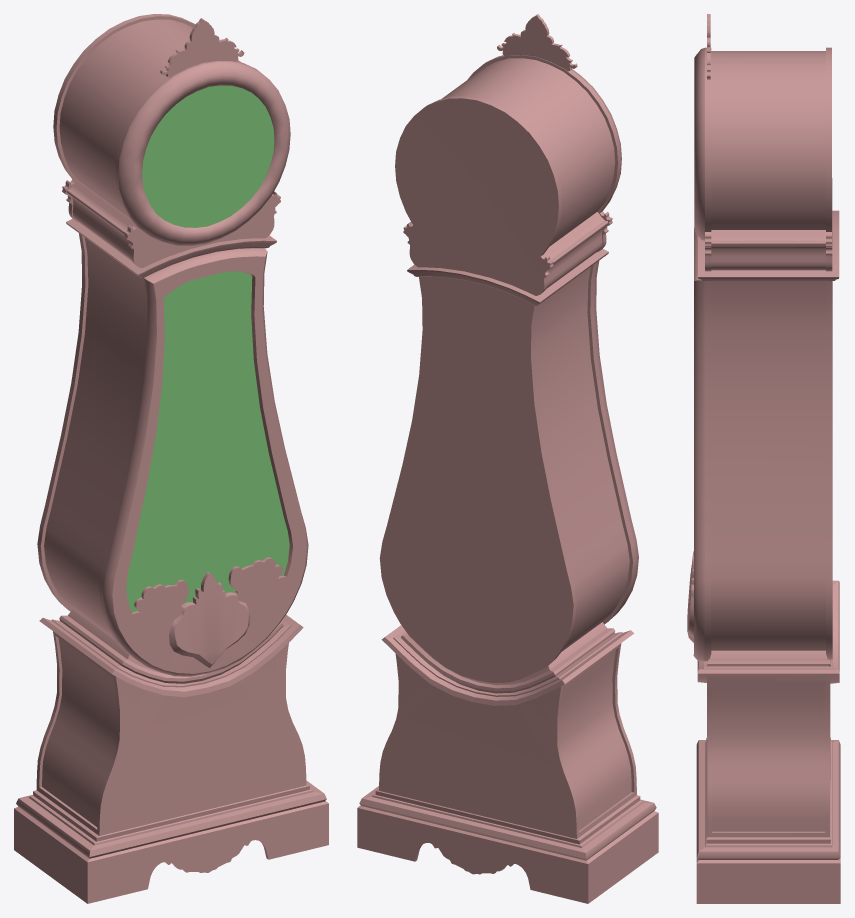
Rendered from SM_GFClock_01a.FBX.
The picture shows the model from 3 angles, left to right: view 1: azimuth 30°, elevation 25°; view 2: azimuth 150°, elevation 25°; view 3: azimuth 270°, elevation 25°; orthographic projection. The views are drawn at different scales.
Parts seen in each view (by area): view 1: SM_GFClock_01a_SM_GFClock_01_LOD0; view 2: SM_GFClock_01a_SM_GFClock_01_LOD0; view 3: SM_GFClock_01a_SM_GFClock_01_LOD0.
Part boxes in pixels (<box>): SM_GFClock_01a_SM_GFClock_01_LOD0: <box>14,14,328,903</box>; SM_GFClock_01a_SM_GFClock_01_LOD0: <box>357,14,658,903</box>; SM_GFClock_01a_SM_GFClock_01_LOD0: <box>687,14,840,903</box>.
Size of what is drawn, in the model's own units: 68.15 by 230 by 38.35.
